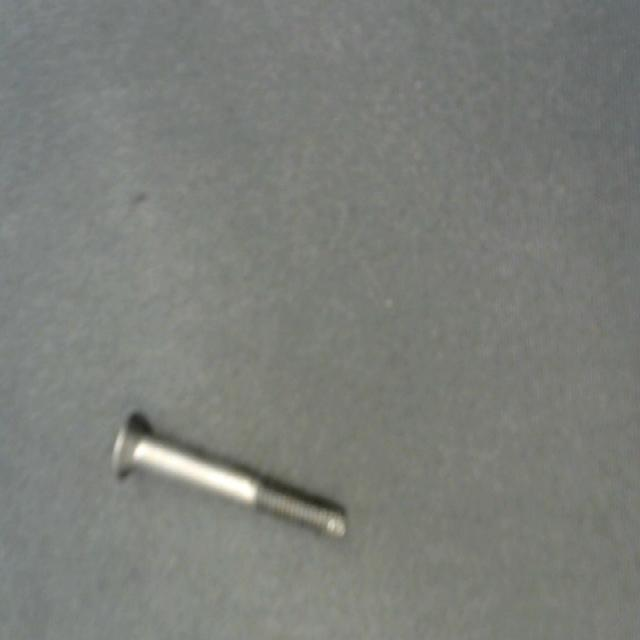FlatHeadSocketScrew: (105, 402, 353, 554)
